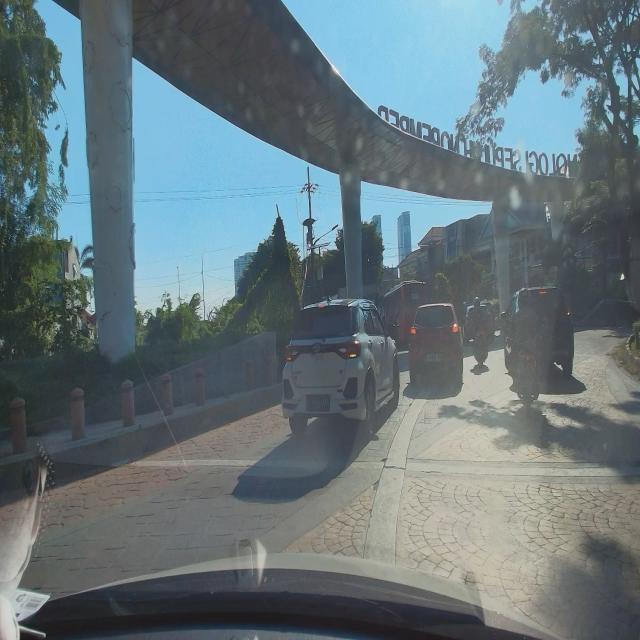car: (282, 292, 401, 438), (408, 300, 464, 386)
license-plate: (306, 395, 330, 412), (425, 353, 442, 362)
